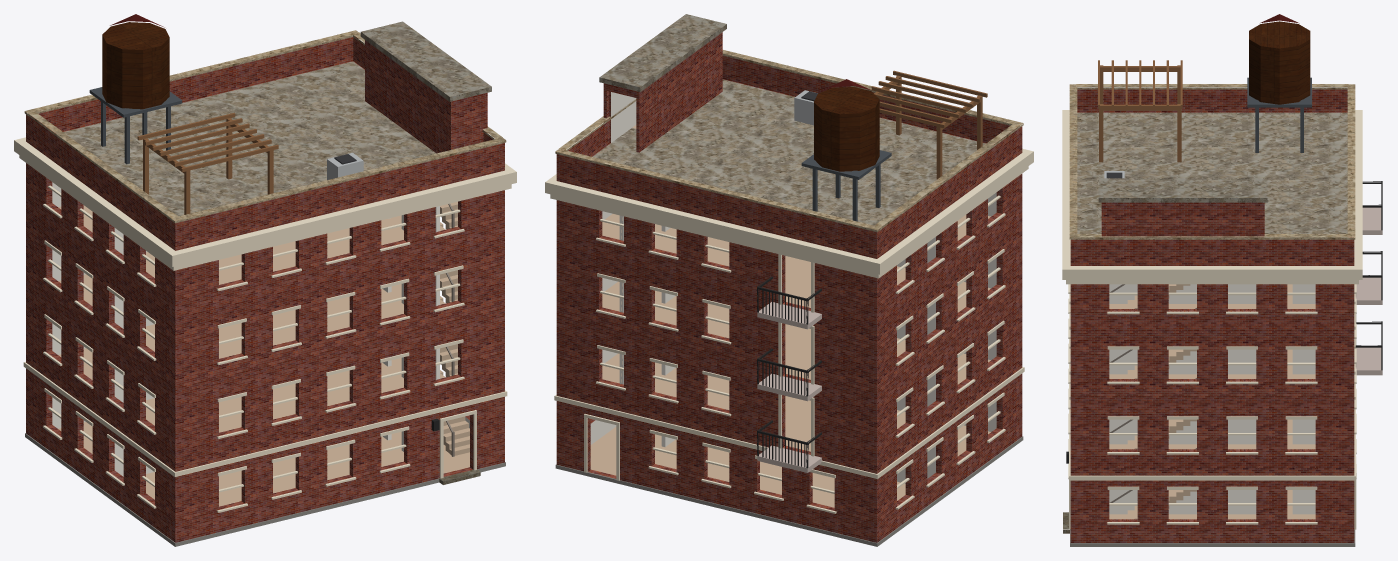
File: ns-brick-walkup.towns-v2.lod0.glb
3 views of the same model, side by side, from view 1: azimuth 30°, elevation 25°; view 2: azimuth 150°, elevation 25°; view 3: azimuth 270°, elevation 25° (orthographic). The views are drawn at different scales.
Parts seen in each view (by area): view 1: ns-brick-walkup; view 2: ns-brick-walkup; view 3: ns-brick-walkup.
Part boxes in pixels (x1,y1,x2,y2): ns-brick-walkup: (14,14,516,546); ns-brick-walkup: (545,14,1033,546); ns-brick-walkup: (1062,14,1382,546).
Size of the model in its own units: 14.64 by 17.66 by 12.45.
6 materials, 3 textured.
